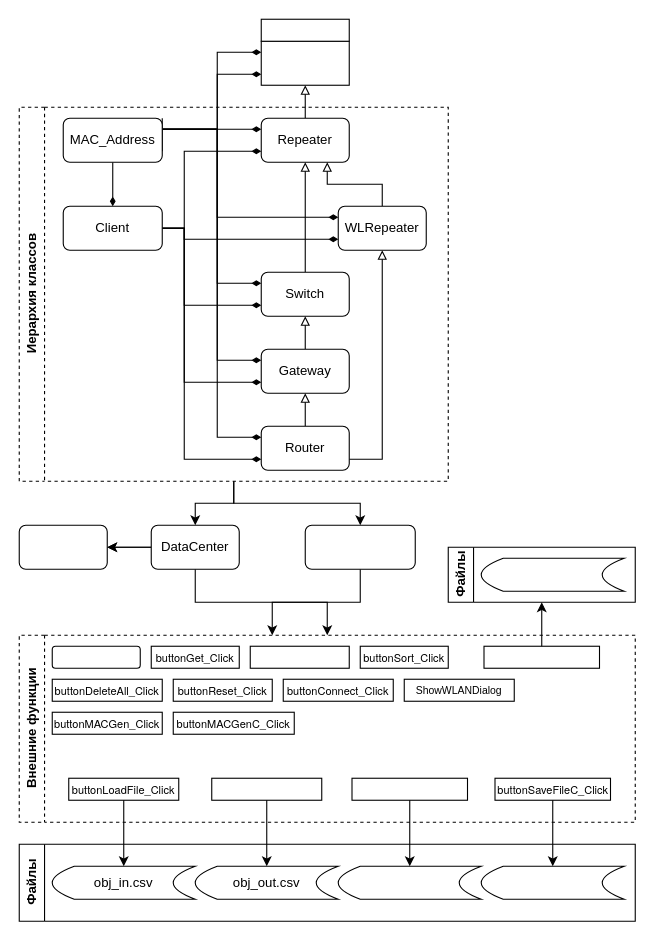
Some shapes in this 655 by 941 pixel diagram are drawn without their labels. Each missing label, with the box of its shape:
buttonAdd_Click: (51, 645, 140, 668)
buttonLoadBin_Click: (483, 645, 600, 668)
buttonLoadFileC_Click: (351, 777, 468, 800)
buttonSaveFile_Click: (211, 777, 322, 800)
buttonSearch_Click: (249, 645, 349, 668)
cli_in.csv: (337, 865, 481, 899)
cli_out.csv: (480, 865, 624, 899)
Container: (18, 524, 107, 569)
data.bin: (480, 557, 624, 591)
NetDevice: (260, 40, 349, 85)
ServerRoom<T>: (304, 524, 415, 569)
Интерфейс: (260, 18, 349, 41)
